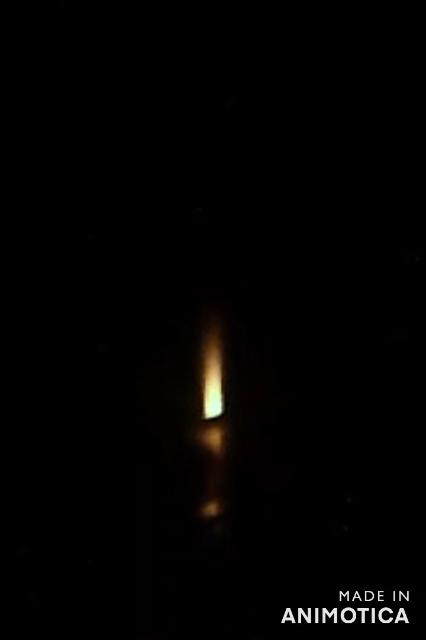burner flame: (200, 328, 228, 422)
